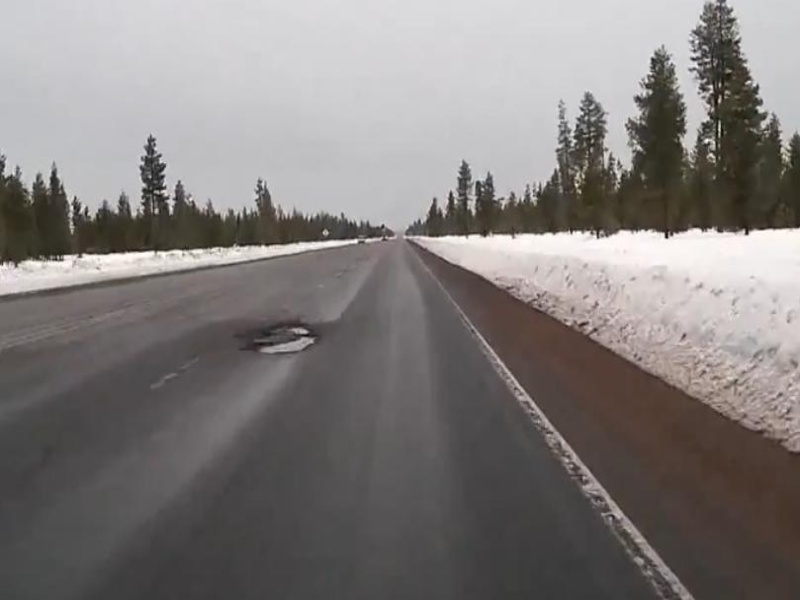pothole: (252, 333, 316, 358), (267, 320, 310, 337)
